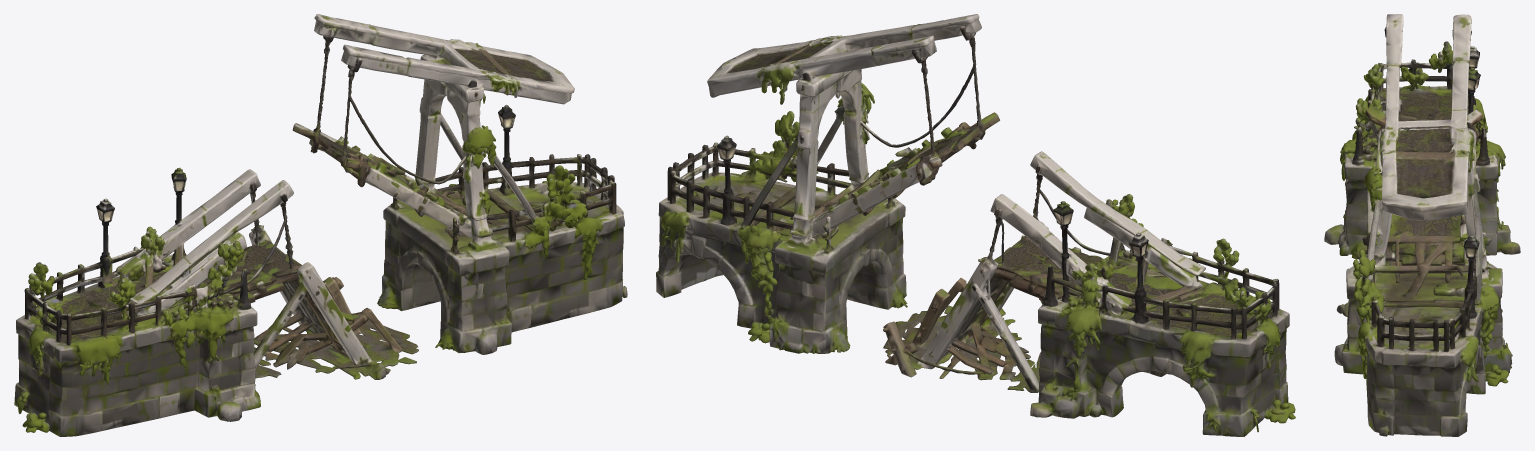
File: cityBridgeHi.glb
3 views of the same model, side by side, from view 1: azimuth 30°, elevation 25°; view 2: azimuth 150°, elevation 25°; view 3: azimuth 270°, elevation 25° (orthographic). The views are drawn at different scales.
Size of the model in its own units: 1.9 by 0.9676 by 0.5748.
Materials: 1 (1 with a texture image).
